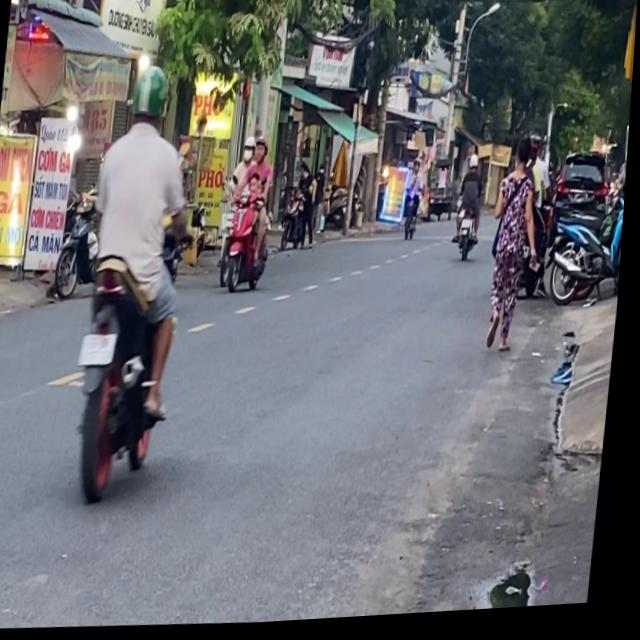helmet: (125, 63, 173, 134), (255, 137, 272, 168), (243, 138, 258, 165)
licenseplate: (65, 57, 210, 505), (216, 132, 283, 299)
nohelmet: (83, 333, 121, 366)
